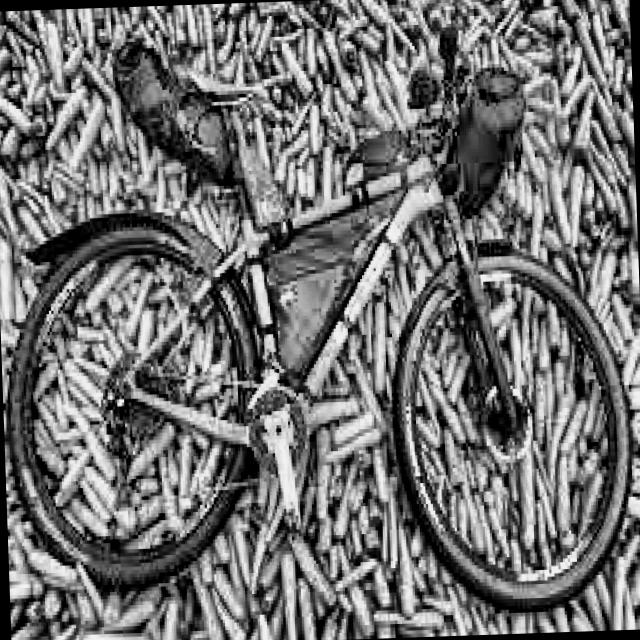bicycle: (0, 42, 635, 628)
